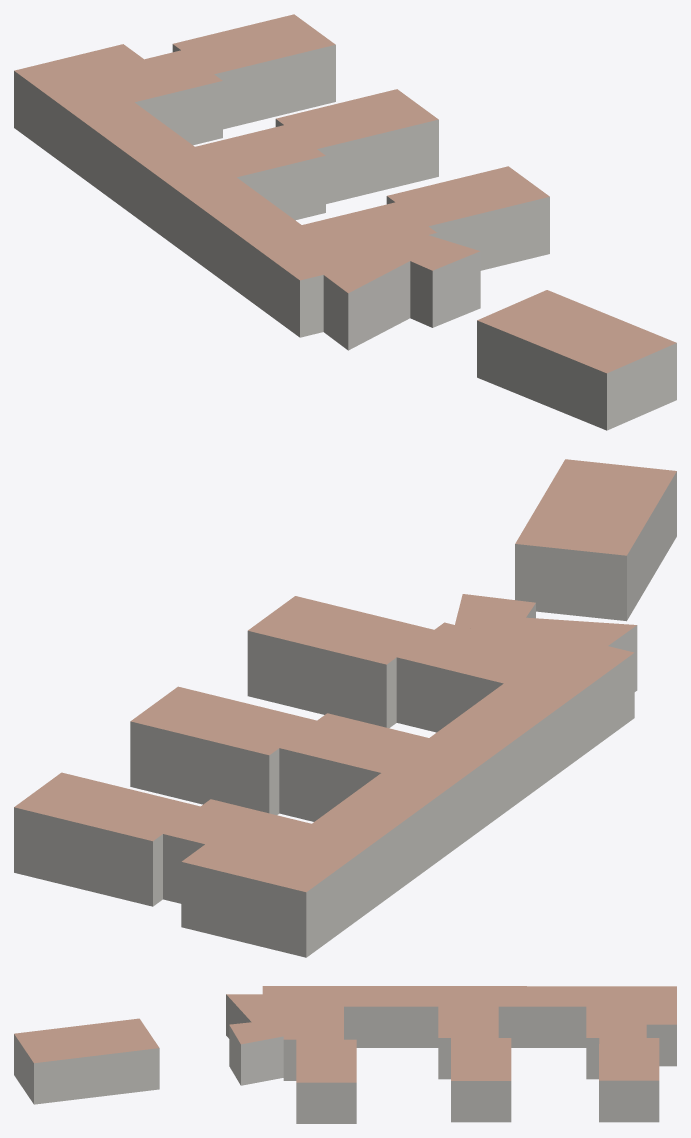
Rendered from gridID_100.dae.
3 renders of one model, top to bottom at view 1: azimuth 30°, elevation 25°; view 2: azimuth 150°, elevation 25°; view 3: azimuth 270°, elevation 25°, orthographic. The views are drawn at different scales.
Parts seen in each view (by area): view 1: model_gridID_100_r6179556_001, model_gridID_100_w116941149, model_gridID_100_r6179495, model_gridID_100_r6179492, model_gridID_100_r6179501_001, model_gridID_100_r6179556, model_gridID_100_r6179556_002, model_gridID_100_r6179556_003; view 2: model_gridID_100_r6179556_001, model_gridID_100_w116941149, model_gridID_100_r6179495, model_gridID_100_r6179501_001, model_gridID_100_r6179492, model_gridID_100_r6179556_003, model_gridID_100_r6179556, model_gridID_100_r6179556_002; view 3: model_gridID_100_r6179556_001, model_gridID_100_w116941149, model_gridID_100_r6179501_001, model_gridID_100_r6179492, model_gridID_100_r6179495, model_gridID_100_r6179556_003, model_gridID_100_r6179556_002, model_gridID_100_r6179556.
Boxes of the visible parts, x1,y1,x2,y2 form: model_gridID_100_r6179556_001: (14, 44, 480, 350); model_gridID_100_w116941149: (477, 290, 676, 430); model_gridID_100_r6179495: (172, 14, 335, 129); model_gridID_100_r6179492: (275, 89, 438, 203); model_gridID_100_r6179501_001: (386, 166, 549, 270); model_gridID_100_r6179556: (170, 125, 325, 220); model_gridID_100_r6179556_002: (67, 50, 222, 145); model_gridID_100_r6179556_003: (281, 202, 437, 260); model_gridID_100_r6179556_001: (181, 594, 637, 957); model_gridID_100_w116941149: (515, 459, 676, 621); model_gridID_100_r6179495: (14, 772, 200, 906); model_gridID_100_r6179501_001: (247, 596, 433, 727); model_gridID_100_r6179492: (130, 686, 316, 815); model_gridID_100_r6179556_003: (396, 622, 574, 732); model_gridID_100_r6179556: (279, 713, 457, 821); model_gridID_100_r6179556_002: (163, 799, 340, 903); model_gridID_100_r6179556_001: (226, 986, 676, 1085); model_gridID_100_w116941149: (14, 1018, 159, 1104); model_gridID_100_r6179501_001: (296, 1039, 356, 1123); model_gridID_100_r6179492: (451, 1038, 511, 1122); model_gridID_100_r6179495: (599, 1038, 659, 1122); model_gridID_100_r6179556_003: (283, 999, 343, 1080); model_gridID_100_r6179556_002: (586, 997, 646, 1079); model_gridID_100_r6179556: (438, 997, 498, 1079).
Bounding box in the file's own units: 37.5 × 109 × 7.5.
